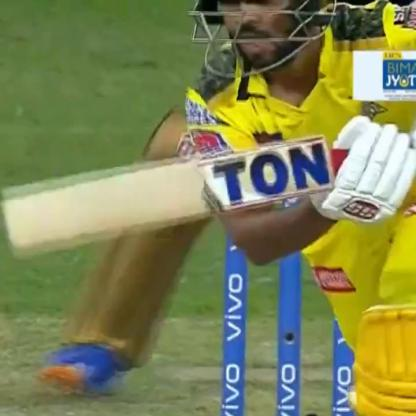bat: (7, 134, 344, 260)
